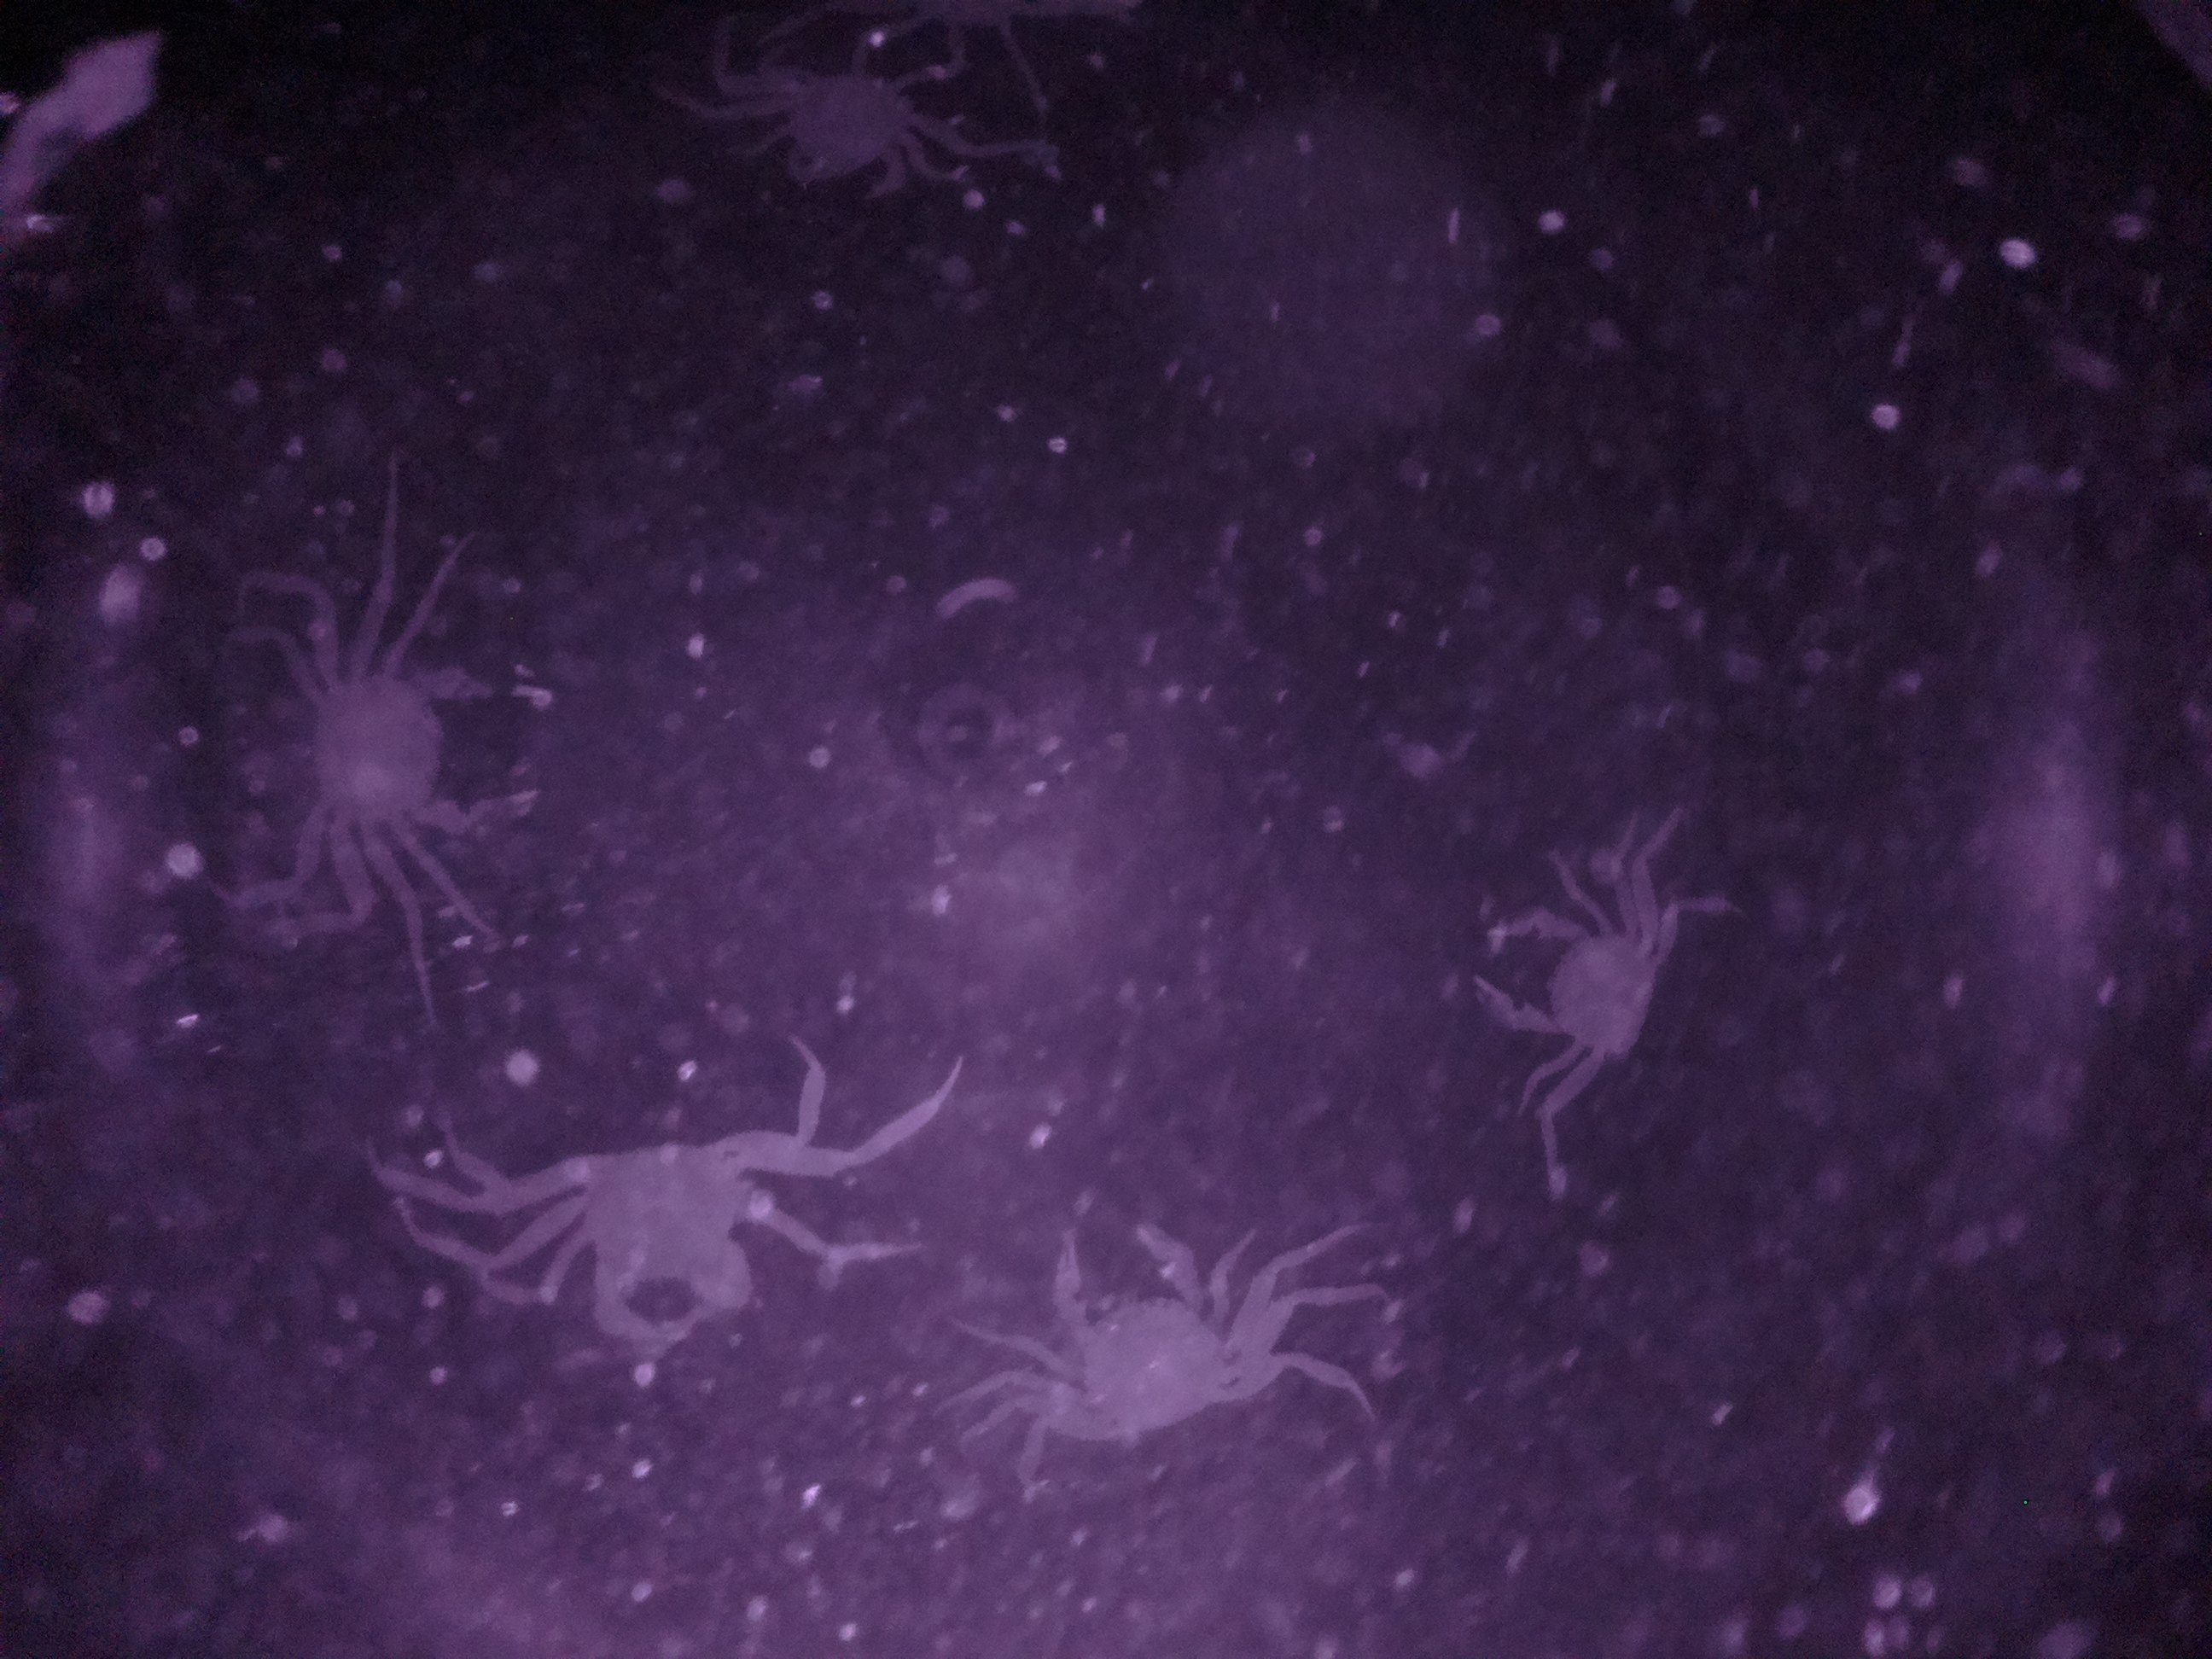Crab: (256, 636, 615, 882), (991, 1208, 1280, 1455), (531, 1121, 806, 1371), (1440, 880, 1693, 1096)
